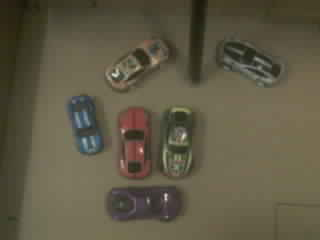Car: (105, 39, 168, 90), (216, 38, 283, 85), (107, 186, 181, 220), (160, 106, 193, 177), (119, 107, 151, 178), (68, 95, 101, 153)
